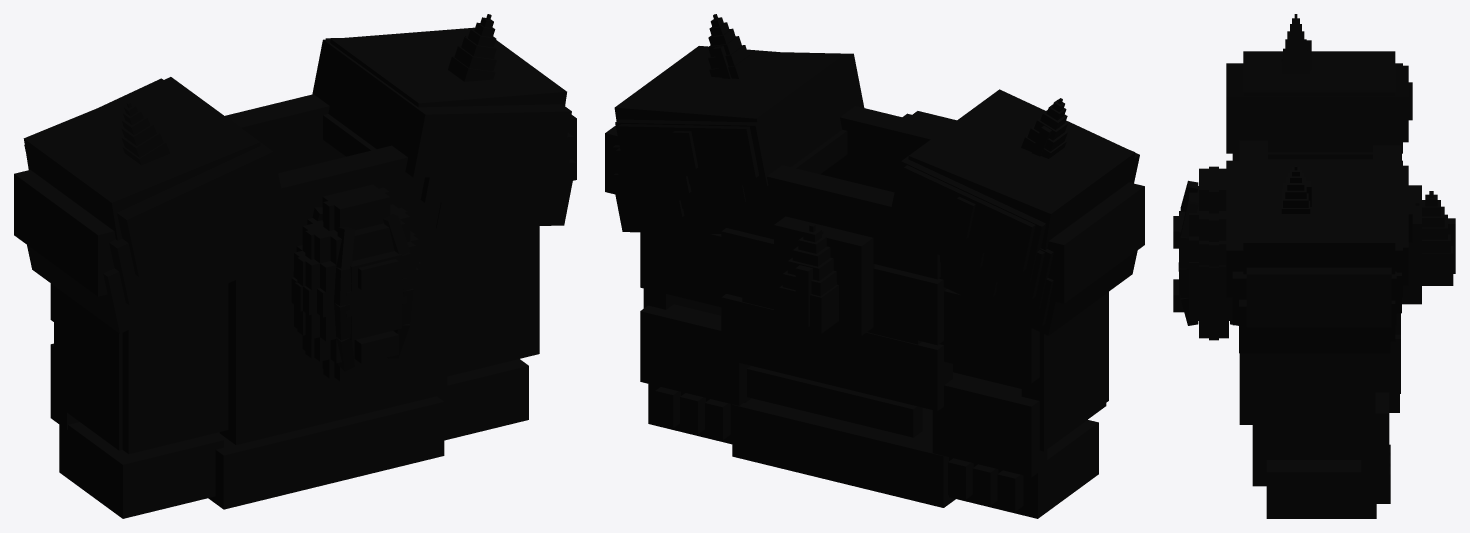
Rendered from brood_heavy_chestplate.obj.
The picture shows the model from 3 angles, left to right: view 1: azimuth 30°, elevation 25°; view 2: azimuth 150°, elevation 25°; view 3: azimuth 270°, elevation 25°; orthographic projection. The views are drawn at different scales.
Bounding box in the file's own units: 0.875 × 0.7089 × 0.5186.
